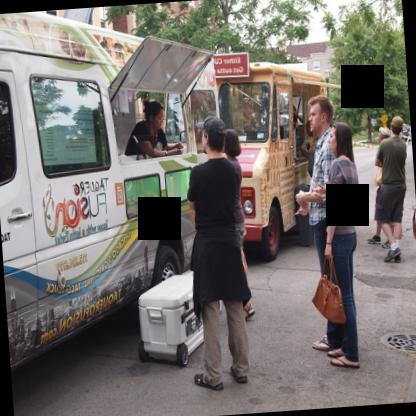handbag: (311, 256, 347, 324)
